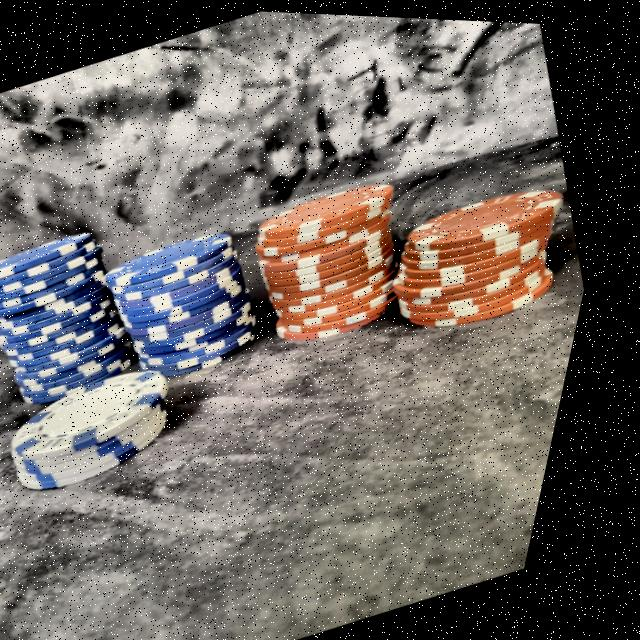Chip: (228, 142, 461, 369), (357, 145, 600, 355), (0, 200, 188, 443), (87, 205, 303, 408), (0, 338, 218, 514)
